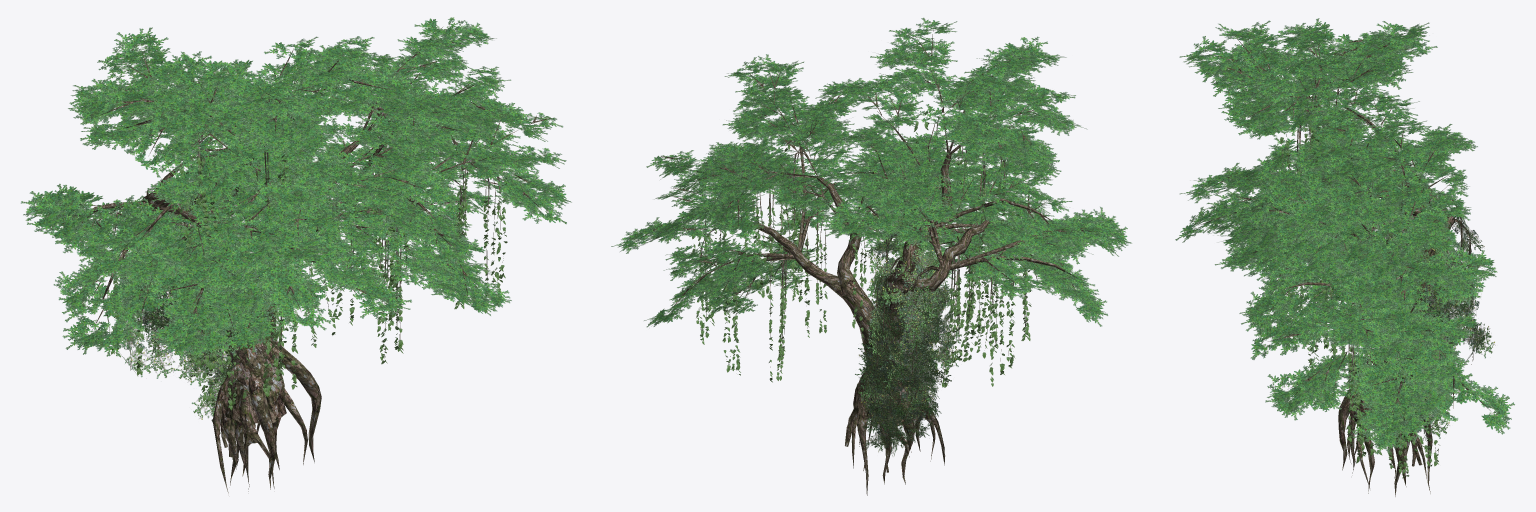
Rendered from Big_tree_03_ivy.glb.
3 renders of one model, left to right at view 1: azimuth 30°, elevation 25°; view 2: azimuth 150°, elevation 25°; view 3: azimuth 270°, elevation 25°, orthographic. The views are drawn at different scales.
Visible parts, largest first — view 1: Big_tree_03_ivy; view 2: Big_tree_03_ivy; view 3: Big_tree_03_ivy.
Boxes of the visible parts, box(x1,y1,x2,y2) form: Big_tree_03_ivy: box(21, 17, 571, 493); Big_tree_03_ivy: box(611, 17, 1131, 495); Big_tree_03_ivy: box(1175, 18, 1514, 496).
Size of the model in its own units: 33.29 by 27.09 by 19.54.
5 materials, 5 textured.
